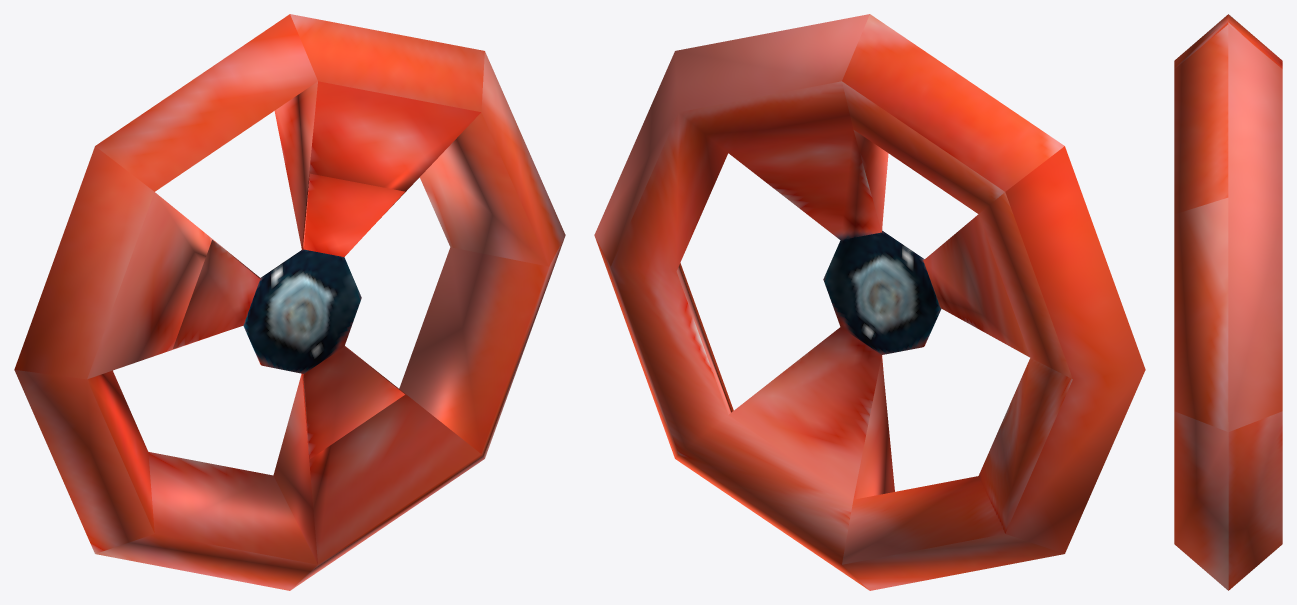
File: Valve.fbx
3 renders of one model, left to right at view 1: azimuth 30°, elevation 25°; view 2: azimuth 150°, elevation 25°; view 3: azimuth 270°, elevation 25°, orthographic. The views are drawn at different scales.
Parts seen in each view (by area): view 1: Valve; view 2: Valve; view 3: Valve.
Boxes of the visible parts, left/top/right/bottom form: Valve: left=14, top=14, right=565, bottom=590; Valve: left=594, top=14, right=1145, bottom=590; Valve: left=1174, top=14, right=1282, bottom=590.
Bounding box in the file's own units: 239 × 239 × 42.11.
